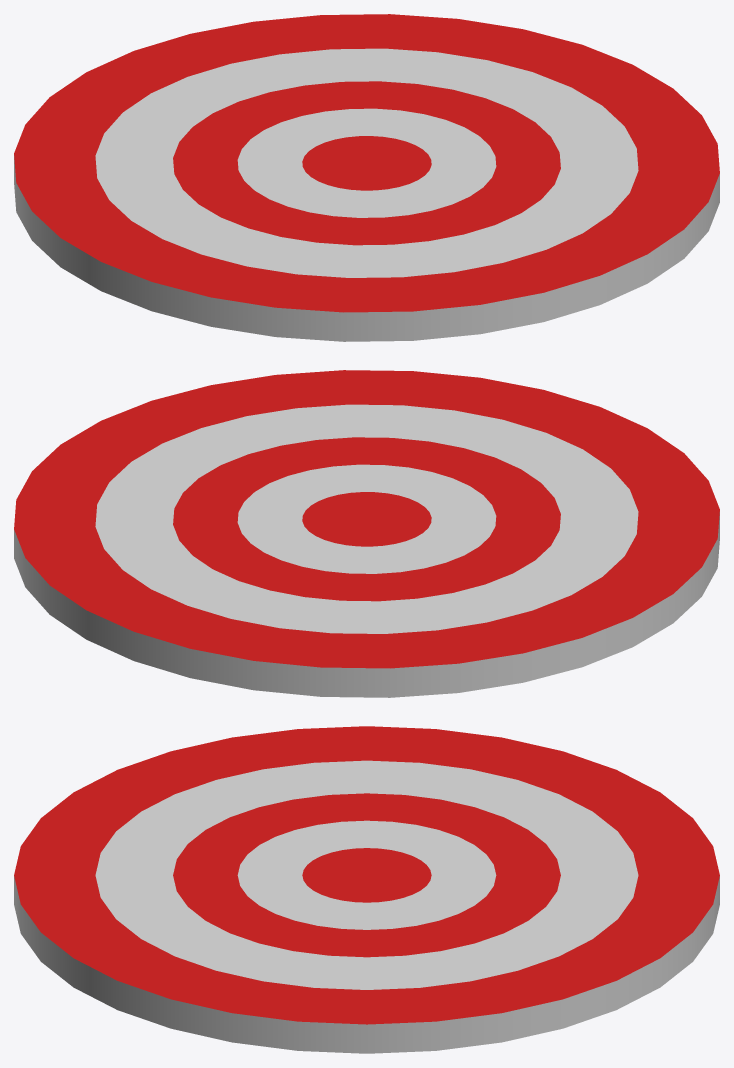
File: target.dae
3 renders of one model, top to bottom at view 1: azimuth 30°, elevation 25°; view 2: azimuth 150°, elevation 25°; view 3: azimuth 270°, elevation 25°, orthographic.
Parts seen in each view (by area): view 1: target; view 2: target; view 3: target.
Boxes of the visible parts, <box> form: target: <box>14,14,719,341</box>; target: <box>14,370,719,697</box>; target: <box>14,726,719,1053</box>.
Size of the model in its own units: 10.92 by 10.92 by 0.5.
